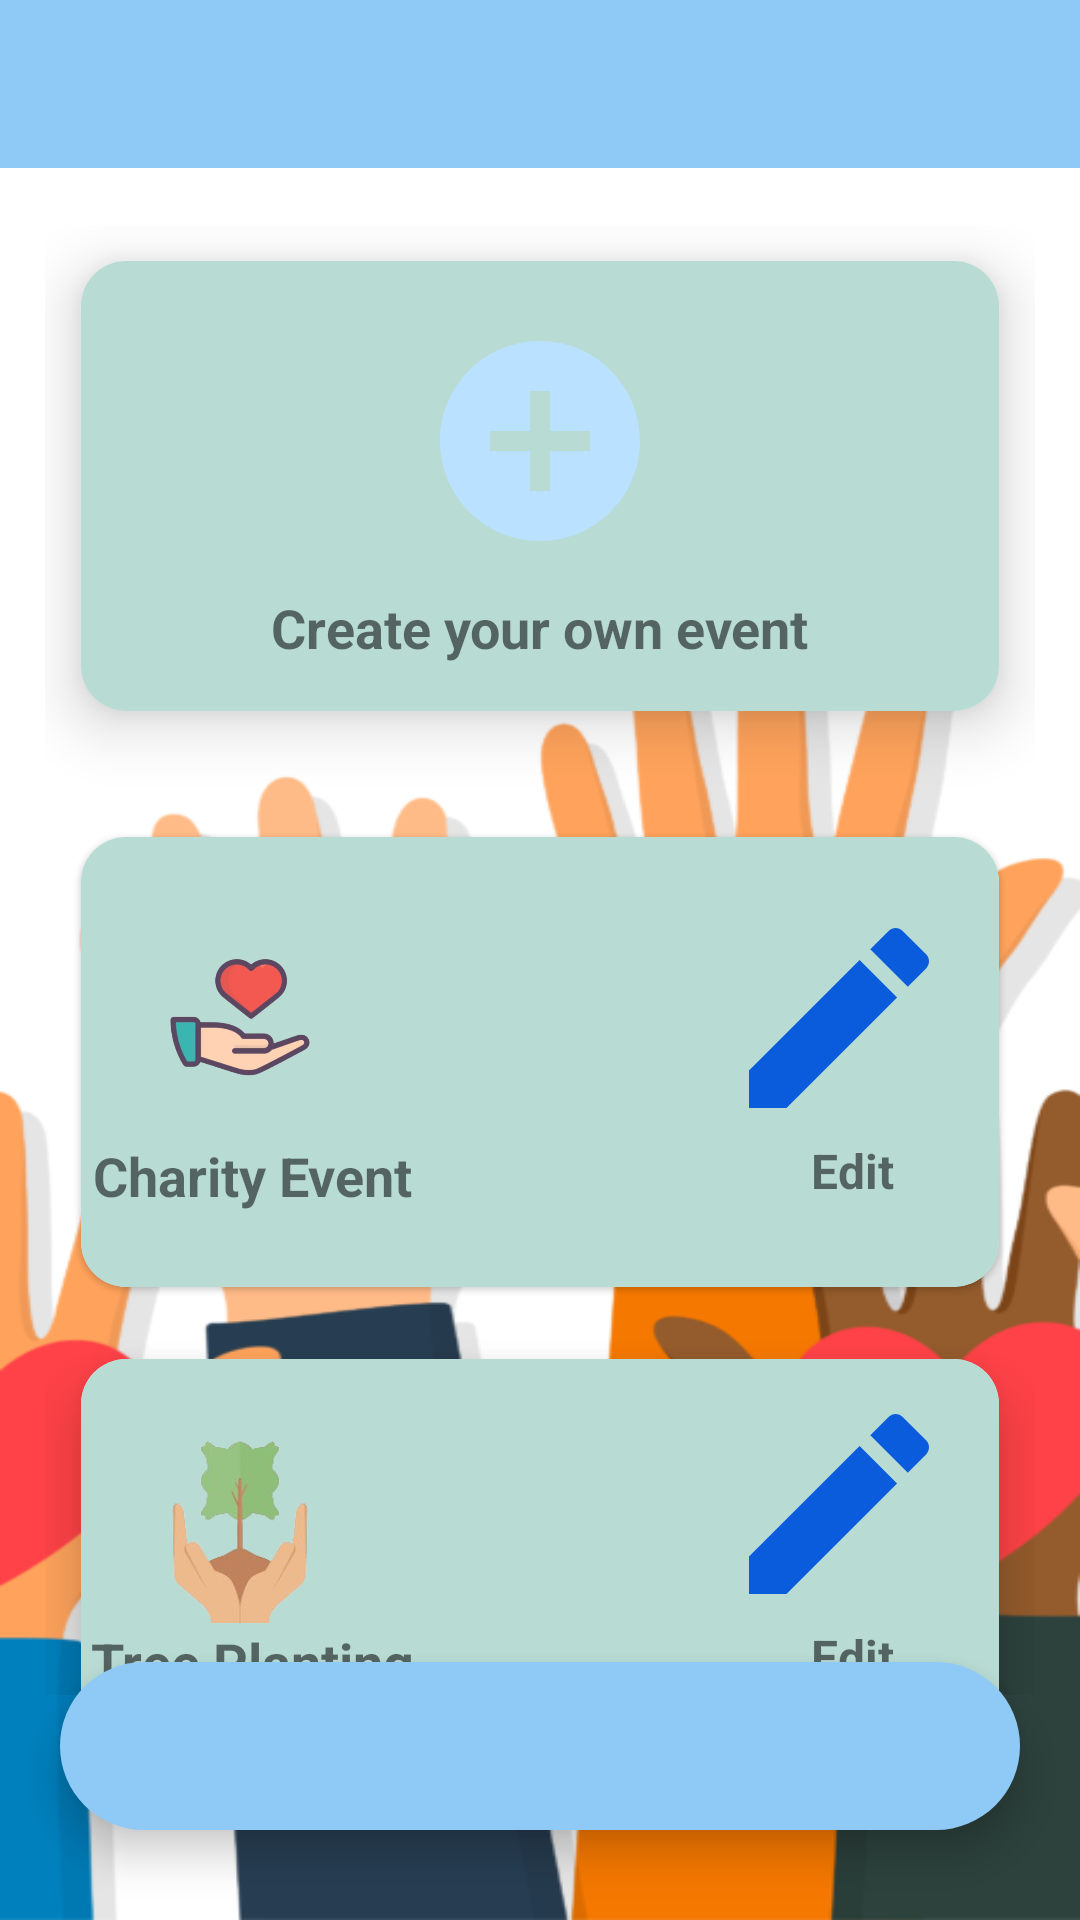

Locate icon controls on the screen. Image size 1080 × 1920, boxes as (left=x1, top=y1, right=x2, bottom=y2).
add: (left=440, top=341, right=640, bottom=541)
